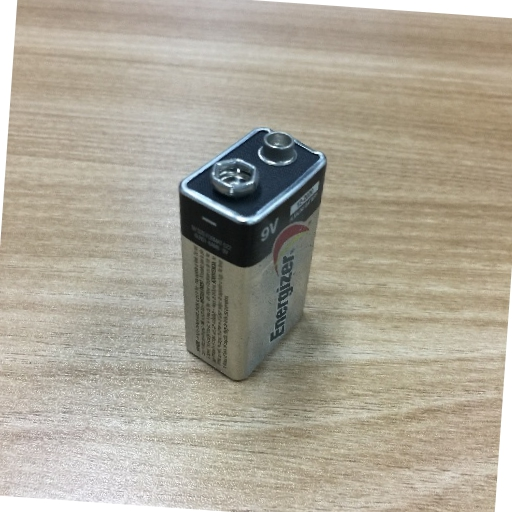Battery_3: (171, 112, 334, 393)
